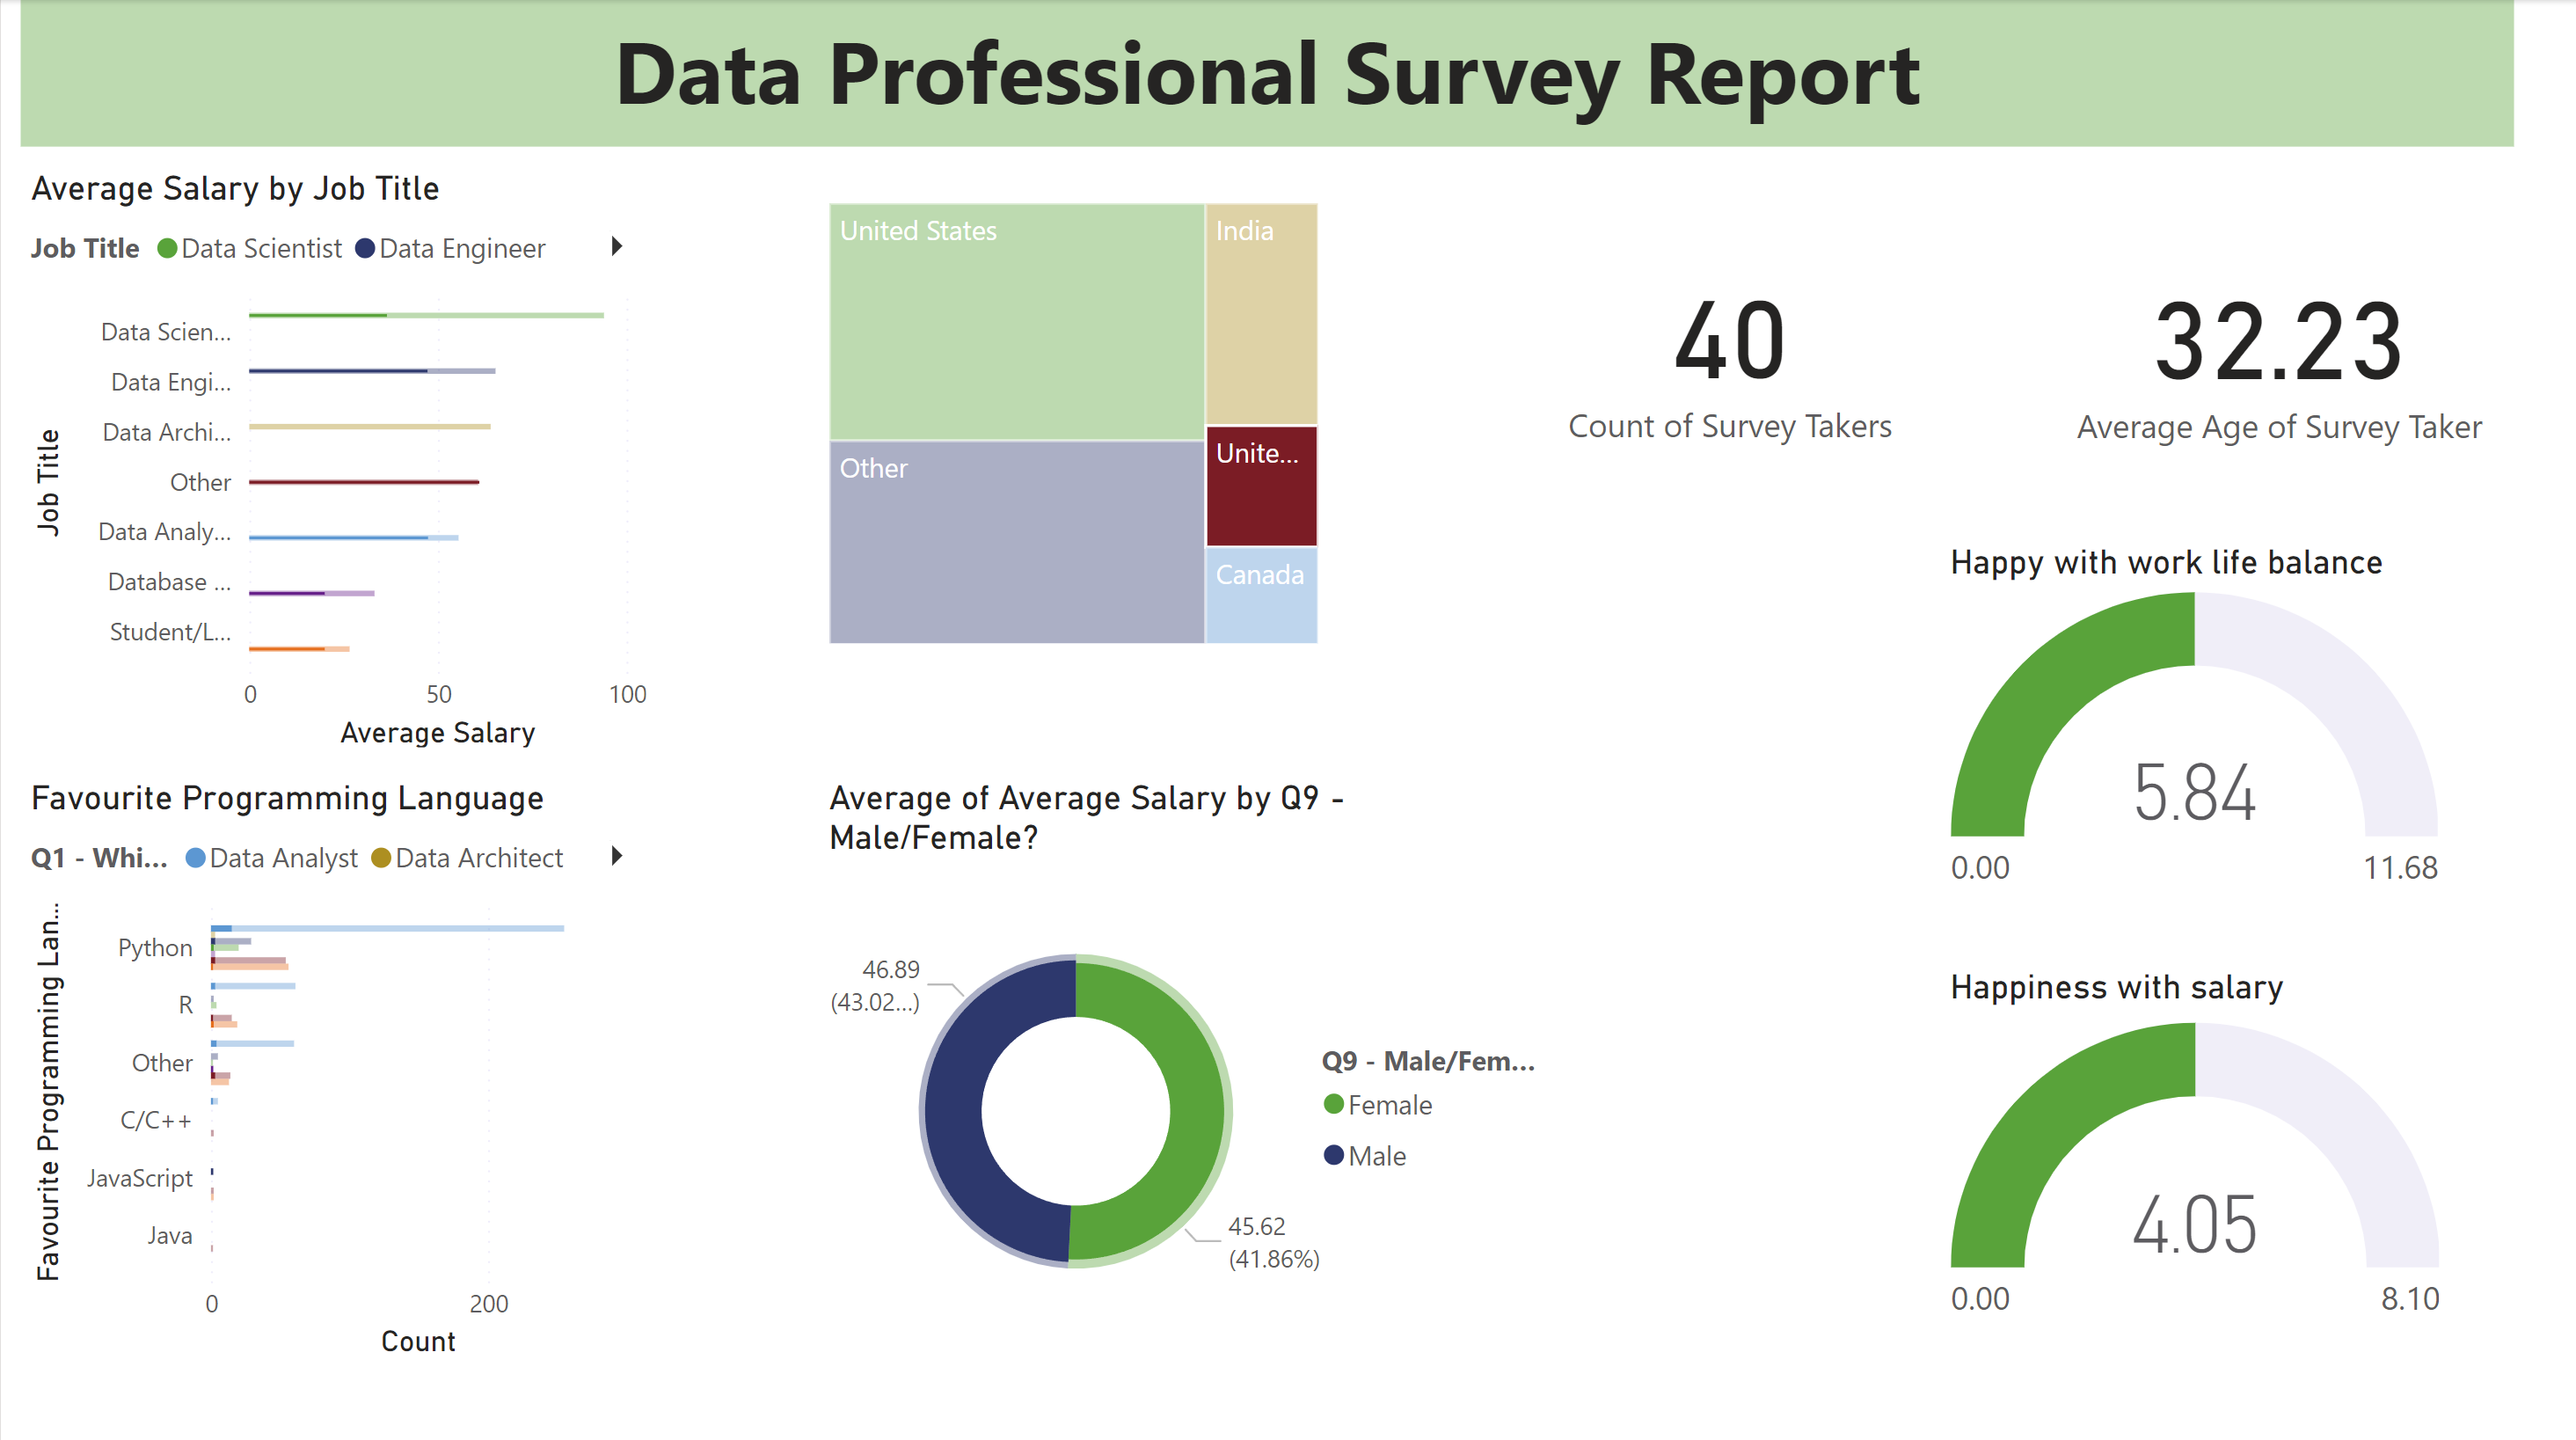

This screenshot's page, from the dashboard's own definition file:
{"tool":"powerbi","page":{"name":"Page 1","canvas":[1280,720],"ordinal":0},"visuals":[{"type":"textbox","box":[9.9,0,1235.9,72.9],"z":0},{"type":"card","fields":{"Values":["Count(Data Professional Survey.Unique ID)"]},"box":[741.3,95.9,230.9,151.2],"z":1000},{"type":"card","fields":{"Values":["Avg(Data Professional Survey.Q10 - Current Age)"]},"box":[1012,96.6,233.8,150.5],"z":2000},{"type":"clusteredBarChart","title":"Average Salary by Job Title","fields":{"Category":["Data Professional Survey.Q1 - Which Title Best Fits your Current Role?.1"],"Series":["Data Professional Survey.Q1 - Which Title Best Fits your Current Role?.1"],"Y":["Avg(Data Professional Survey.Average Salary)"]},"box":[9.6,83.4,315,292.1],"z":3000},{"type":"clusteredBarChart","title":"Favourite Programming Language","fields":{"Category":["Data Professional Survey.Q5 - Favorite Programming Language.1"],"Y":["CountNonNull(Data Professional Survey.Unique ID)"],"Series":["Data Professional Survey.Q1 - Which Title Best Fits your Current Role?.1"]},"box":[10,385,315,292],"z":4000},{"type":"treemap","fields":{"Group":["Data Professional Survey.Q11 - Which Country do you live in?.1"],"Values":["CountNonNull(Data Professional Survey.Q11 - Which Country do you live in?.1)"]},"box":[405.7,95.2,252.3,228.7],"z":5000},{"type":"gauge","title":"Happy with work life balance","fields":{"Y":["Avg(Data Professional Survey.Q6 - How Happy are you in your Current Position with the following? (Work/Life Balance))"]},"box":[961.3,268.1,251.8,183.1],"z":6000},{"type":"gauge","title":"Happiness with salary","fields":{"Y":["Avg(Data Professional Survey.Q6 - How Happy are you in your Current Position with the following? (Salary))"]},"box":[961,478.8,252.5,189],"z":7000},{"type":"donutChart","fields":{"Y":["Avg(Data Professional Survey.Average Salary)"],"Category":["Data Professional Survey.Q9 - Male/Female?"]},"box":[405.7,385,364.3,291.8],"z":8000}]}

Visuals, with their boxes in screenshot pixels (x1, y1, x2, y2), scaled from the page's 1280x720 canvas onto the 2576x1440 screenshot:
textbox: detection(20, 0, 2507, 146)
card - Count(Data Professional Survey.Unique ID): detection(1492, 192, 1957, 494)
card - Avg(Data Professional Survey.Q10 - Current Age): detection(2037, 194, 2507, 494)
"Average Salary by Job Title" clusteredBarChart: detection(19, 167, 653, 751)
"Favourite Programming Language" clusteredBarChart: detection(20, 770, 654, 1354)
treemap - Data Professional Survey.Q11 - Which Country do you live in?.1 x CountNonNull(Data Professional Survey.Q11 - Which Country do you live in?.1): detection(816, 190, 1324, 647)
"Happy with work life balance" gauge: detection(1935, 537, 2441, 903)
"Happiness with salary" gauge: detection(1934, 958, 2442, 1335)
donutChart - Avg(Data Professional Survey.Average Salary) x Data Professional Survey.Q9 - Male/Female?: detection(816, 770, 1550, 1354)
